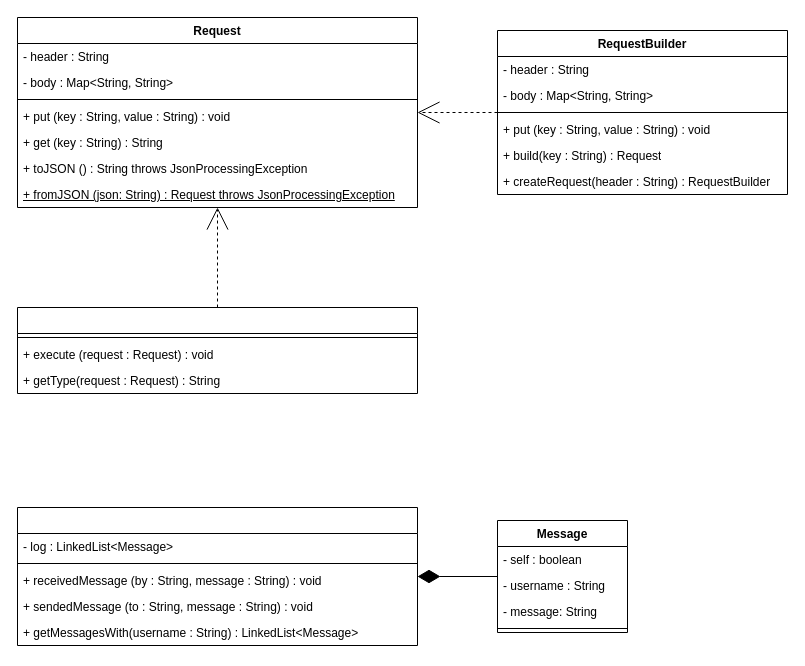
The diagram is 805 pixels wide and 666 high, and some of its shapes have lost their labels. The shapes that lost their labels are listed below. From the top down, each one's box as (x1, y1, x2, y2) in pixels, then its label:
(16, 306, 418, 394): Action <<INTERFACE>>
(16, 506, 418, 646): ChatLog
